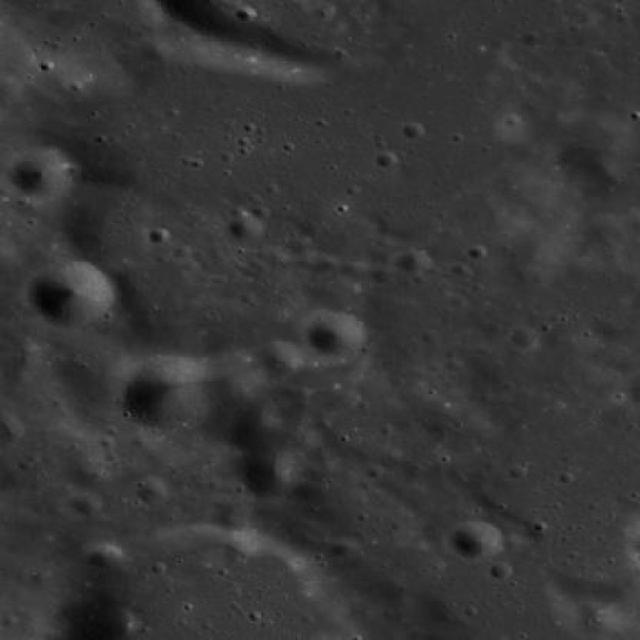crater: (49, 336, 168, 426), (54, 182, 168, 268), (123, 353, 223, 430), (24, 258, 114, 328), (0, 424, 62, 496), (193, 349, 267, 406), (205, 391, 278, 447), (6, 146, 74, 199), (234, 447, 297, 495), (305, 310, 363, 356), (447, 520, 498, 560), (250, 340, 299, 377), (572, 600, 618, 636), (208, 492, 250, 526), (95, 606, 136, 639), (316, 381, 356, 412), (228, 213, 264, 241), (396, 248, 430, 274), (134, 476, 168, 502), (86, 544, 120, 570), (609, 348, 640, 372), (309, 252, 340, 276), (1, 362, 32, 386), (332, 534, 362, 558), (14, 344, 44, 368), (0, 414, 25, 442), (509, 325, 538, 347), (70, 492, 99, 514), (286, 234, 312, 254), (370, 266, 396, 286), (340, 260, 366, 278), (491, 560, 514, 578), (374, 153, 398, 170), (146, 226, 169, 243), (368, 247, 390, 264), (313, 3, 335, 20), (402, 123, 424, 139), (290, 252, 312, 268), (466, 244, 486, 258), (172, 244, 192, 258), (0, 1, 1, 2)
